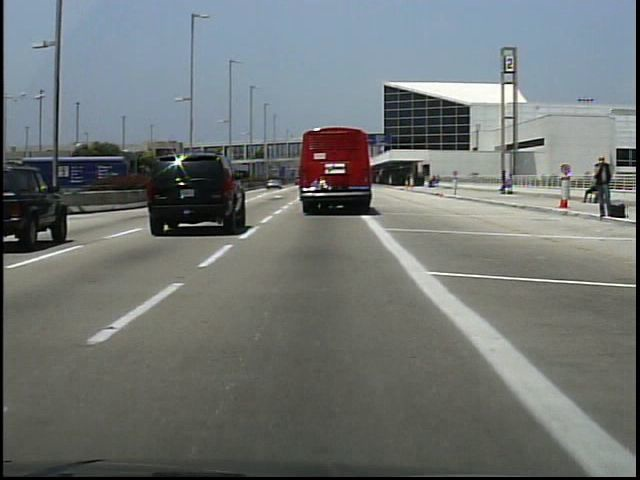person: (590, 151, 617, 222), (578, 170, 603, 206)
